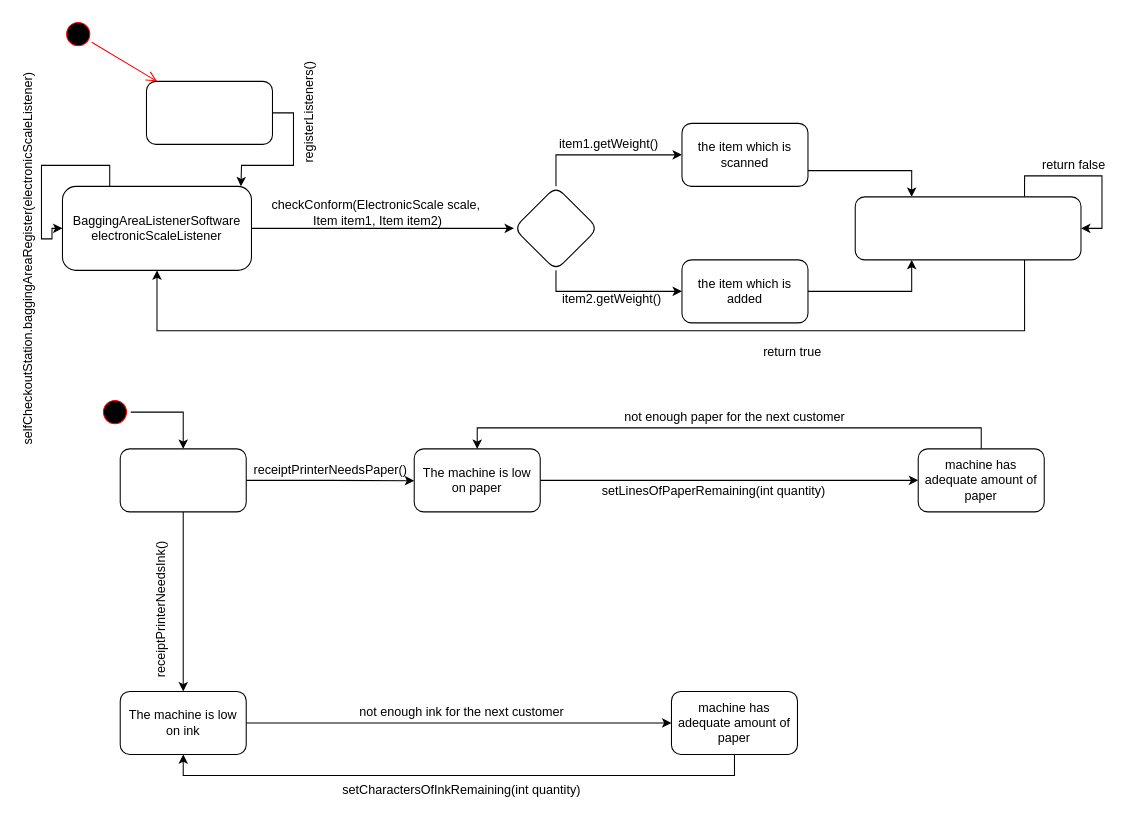
The diagram is 1133 pixels wide and 825 high, and some of its shapes have lost their labels. The shapes that lost their labels are listed below. From the top down, each one's centre as x and y in pixels, then its label:
(208,112): Session
(967,228): check if the item added and the item scanned have the same weight
(182,480): StationUsage
